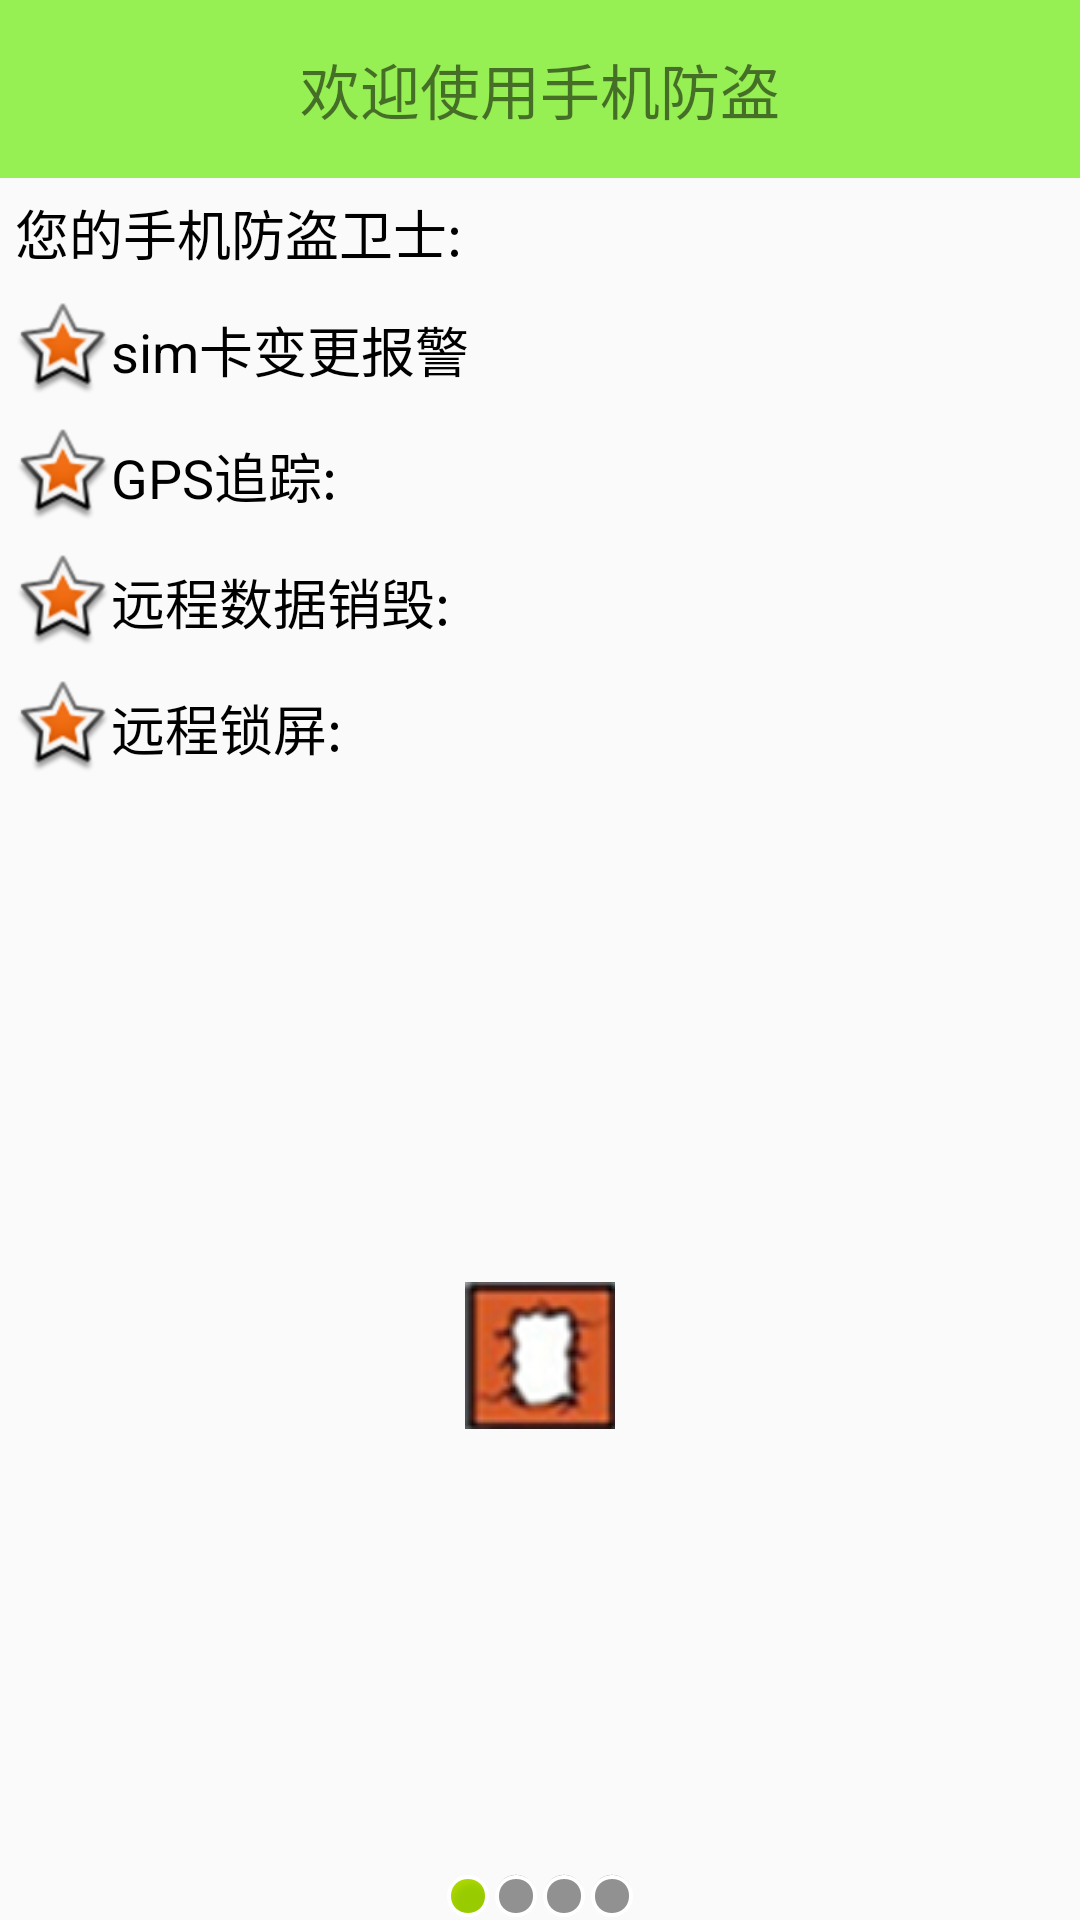

Point at icon controls on the screen. Image size 1080px×1920px, points as (x,y).
presence online: (468,1896)
